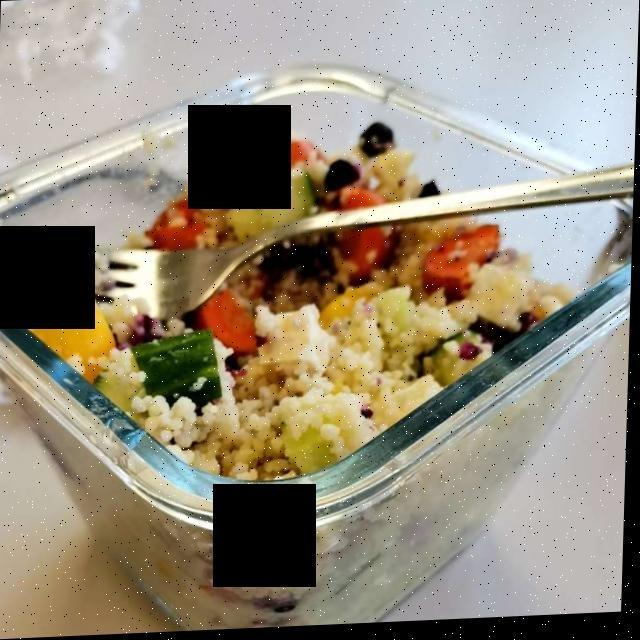blueberries: (215, 121, 543, 357)
cheese: (199, 309, 342, 454)
cucumber: (115, 165, 430, 467)
taboule-prepared-with-couscous: (124, 222, 503, 470)
